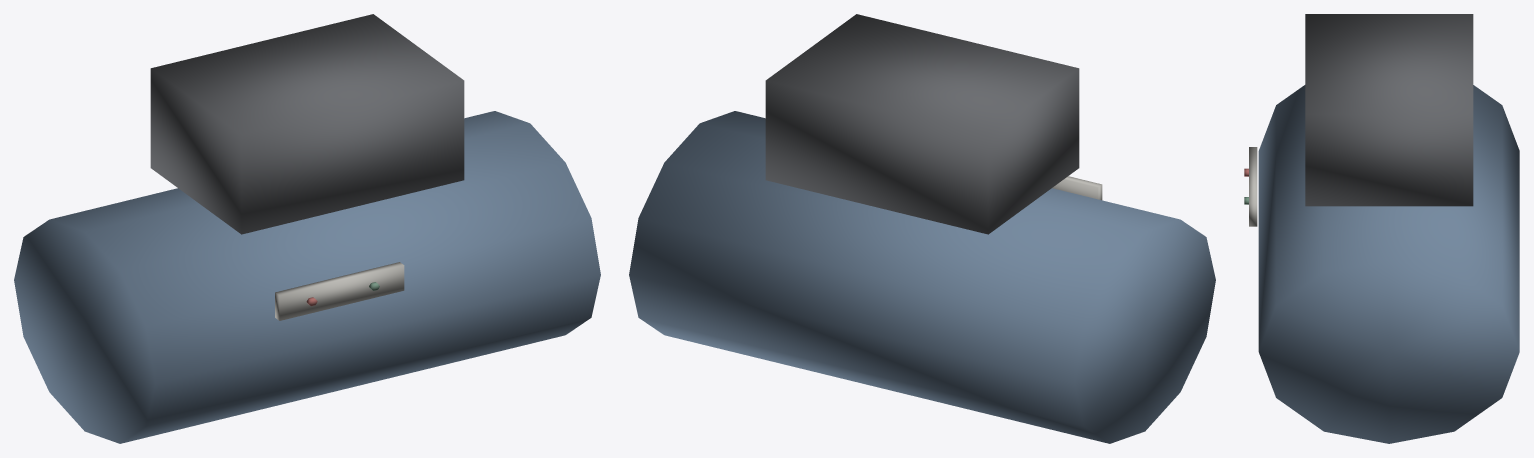
The model's file is air_compressor__squat.glb.
3 renders of one model, left to right at view 1: azimuth 30°, elevation 25°; view 2: azimuth 150°, elevation 25°; view 3: azimuth 270°, elevation 25°, orthographic. The views are drawn at different scales.
Parts seen in each view (by area): view 1: world; view 2: world; view 3: world.
Boxes of the visible parts, x1,y1,x2,y2 form: world: (14,14,600,443); world: (629,14,1215,443); world: (1244,14,1519,443).
Size of the model in its own units: 1.1 by 0.7476 by 0.6383.
